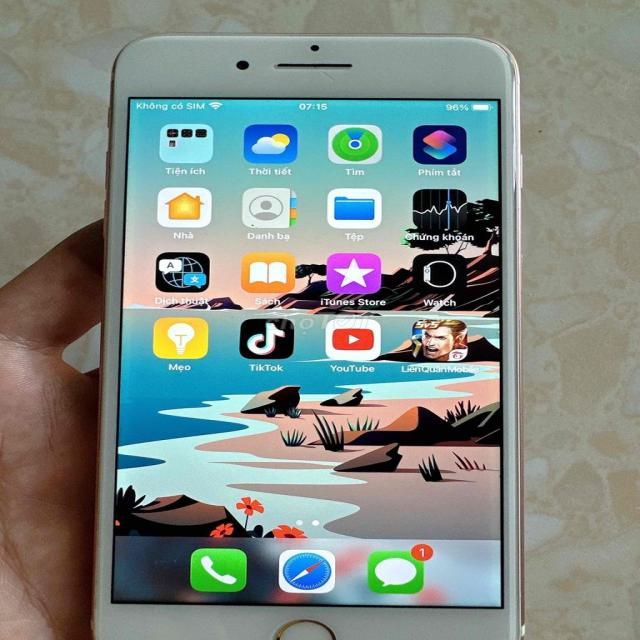gen_7_8: (76, 34, 522, 639)
